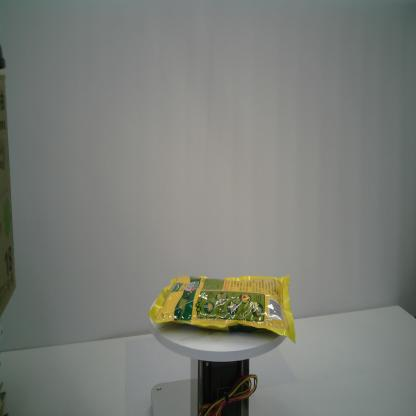Seasoner: (145, 273, 296, 346)
